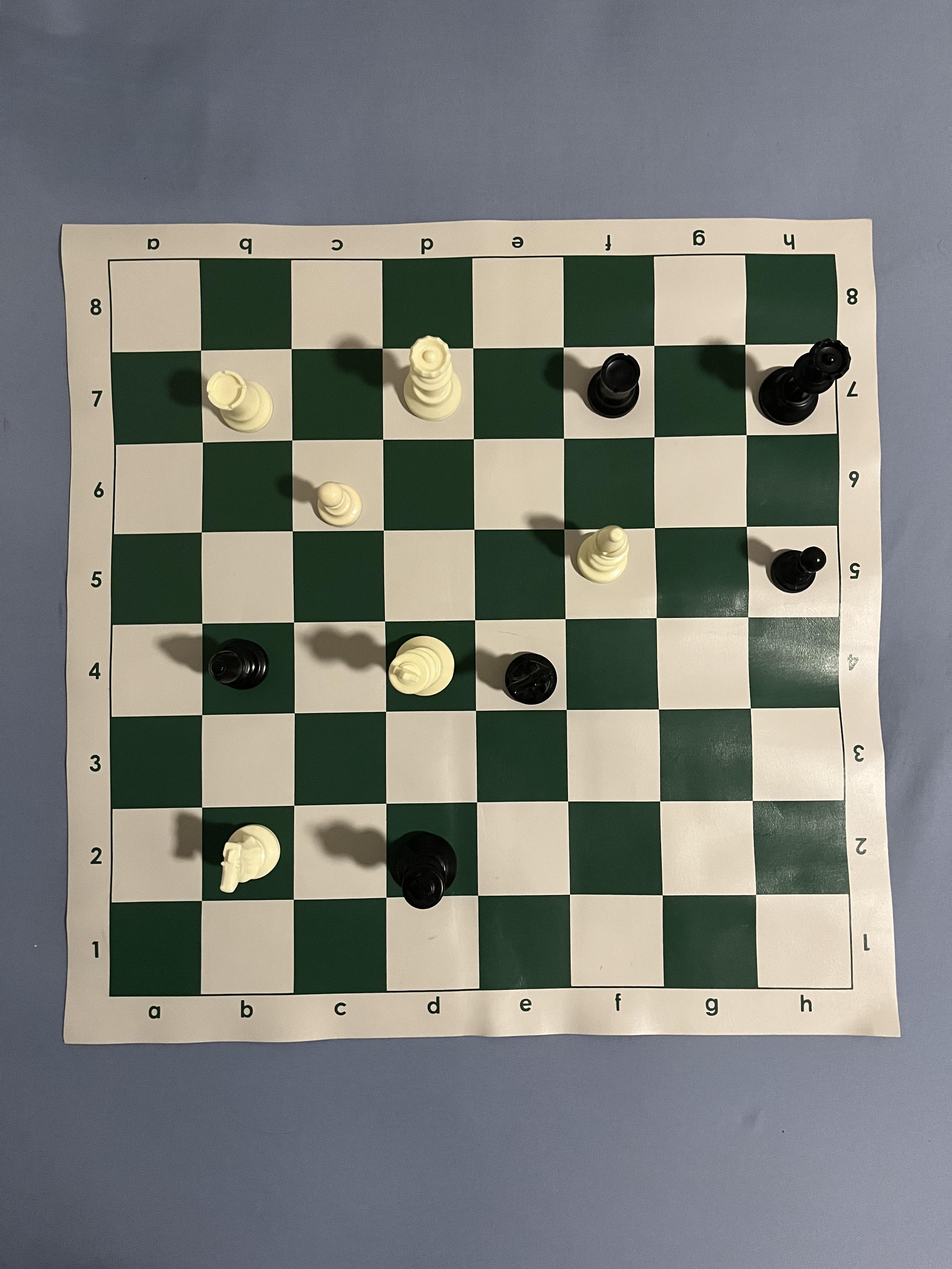black_bishop: (208, 638, 269, 691)
black_king: (387, 830, 459, 910)
black_knight: (505, 651, 558, 706)
black_pawn: (769, 545, 828, 594)
black_queen: (758, 338, 852, 427)
black_rook: (586, 353, 642, 419)
white_bishop: (576, 524, 631, 585)
white_king: (388, 634, 456, 698)
white_knight: (218, 823, 281, 894)
white_pawn: (314, 482, 363, 528)
white_queen: (403, 335, 462, 422)
white_rook: (205, 370, 275, 434)
